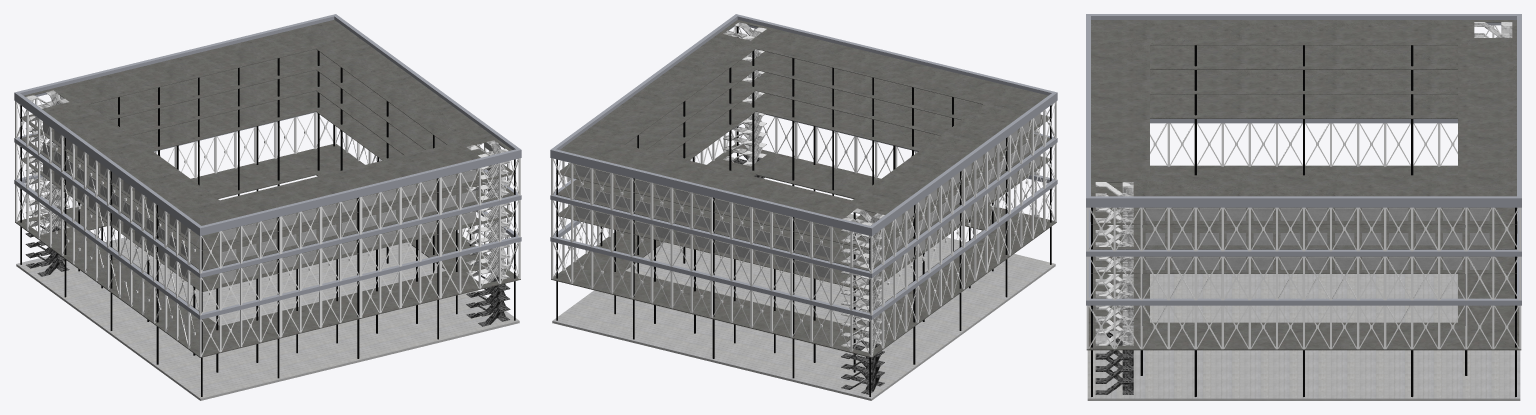
The model's file is website-1-v1.glb.
3 renders of one model, left to right at view 1: azimuth 30°, elevation 25°; view 2: azimuth 150°, elevation 25°; view 3: azimuth 270°, elevation 25°, orthographic. The views are drawn at different scales.
Parts seen in each view (by area): view 1: floor.001, Box, floor, lento, vert, x, DUVAR V2.001, kolon, merdiven, Merged Objects 1; view 2: floor.001, Box, floor, lento, vert, x, DUVAR V2.001, kolon, merdiven, Merged Objects 1; view 3: floor.001, Box, lento, floor, x, DUVAR V2.001, vert, merdiven, kolon, Merged Objects 1.
Part boxes in pixels (x1,y1,x2,y2): floor.001: (20,19,515,292); Box: (16,237,519,400); floor: (15,144,520,357); lento: (14,14,521,319); vert: (15,99,520,356); x: (16,95,519,356); DUVAR V2.001: (43,95,492,283); kolon: (20,50,515,396); merdiven: (25,90,510,284); Merged Objects 1: (25,225,510,326); floor.001: (556,19,1051,292); Box: (552,214,1055,400); floor: (551,144,1056,357); lento: (550,14,1057,319); vert: (551,26,1056,356); x: (552,26,1055,356); DUVAR V2.001: (567,113,1040,278); kolon: (556,26,1051,396); merdiven: (723,22,884,352); Merged Objects 1: (733,155,884,394); floor.001: (1091,20,1516,273); Box: (1087,274,1520,400); lento: (1086,14,1521,305); floor: (1086,165,1521,350); x: (1088,25,1519,348); DUVAR V2.001: (1090,207,1517,269); vert: (1086,25,1521,349); merdiven: (1095,22,1512,345); kolon: (1091,45,1516,396); Merged Objects 1: (1095,332,1133,394).
Bounding box in the file's own units: 80.6 × 41.51 × 80.6.
12 materials, 8 textured.
